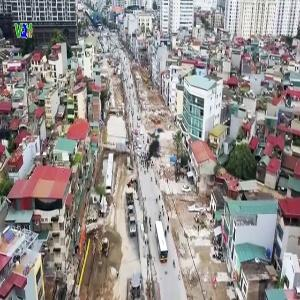drone: (83, 66, 236, 219)
